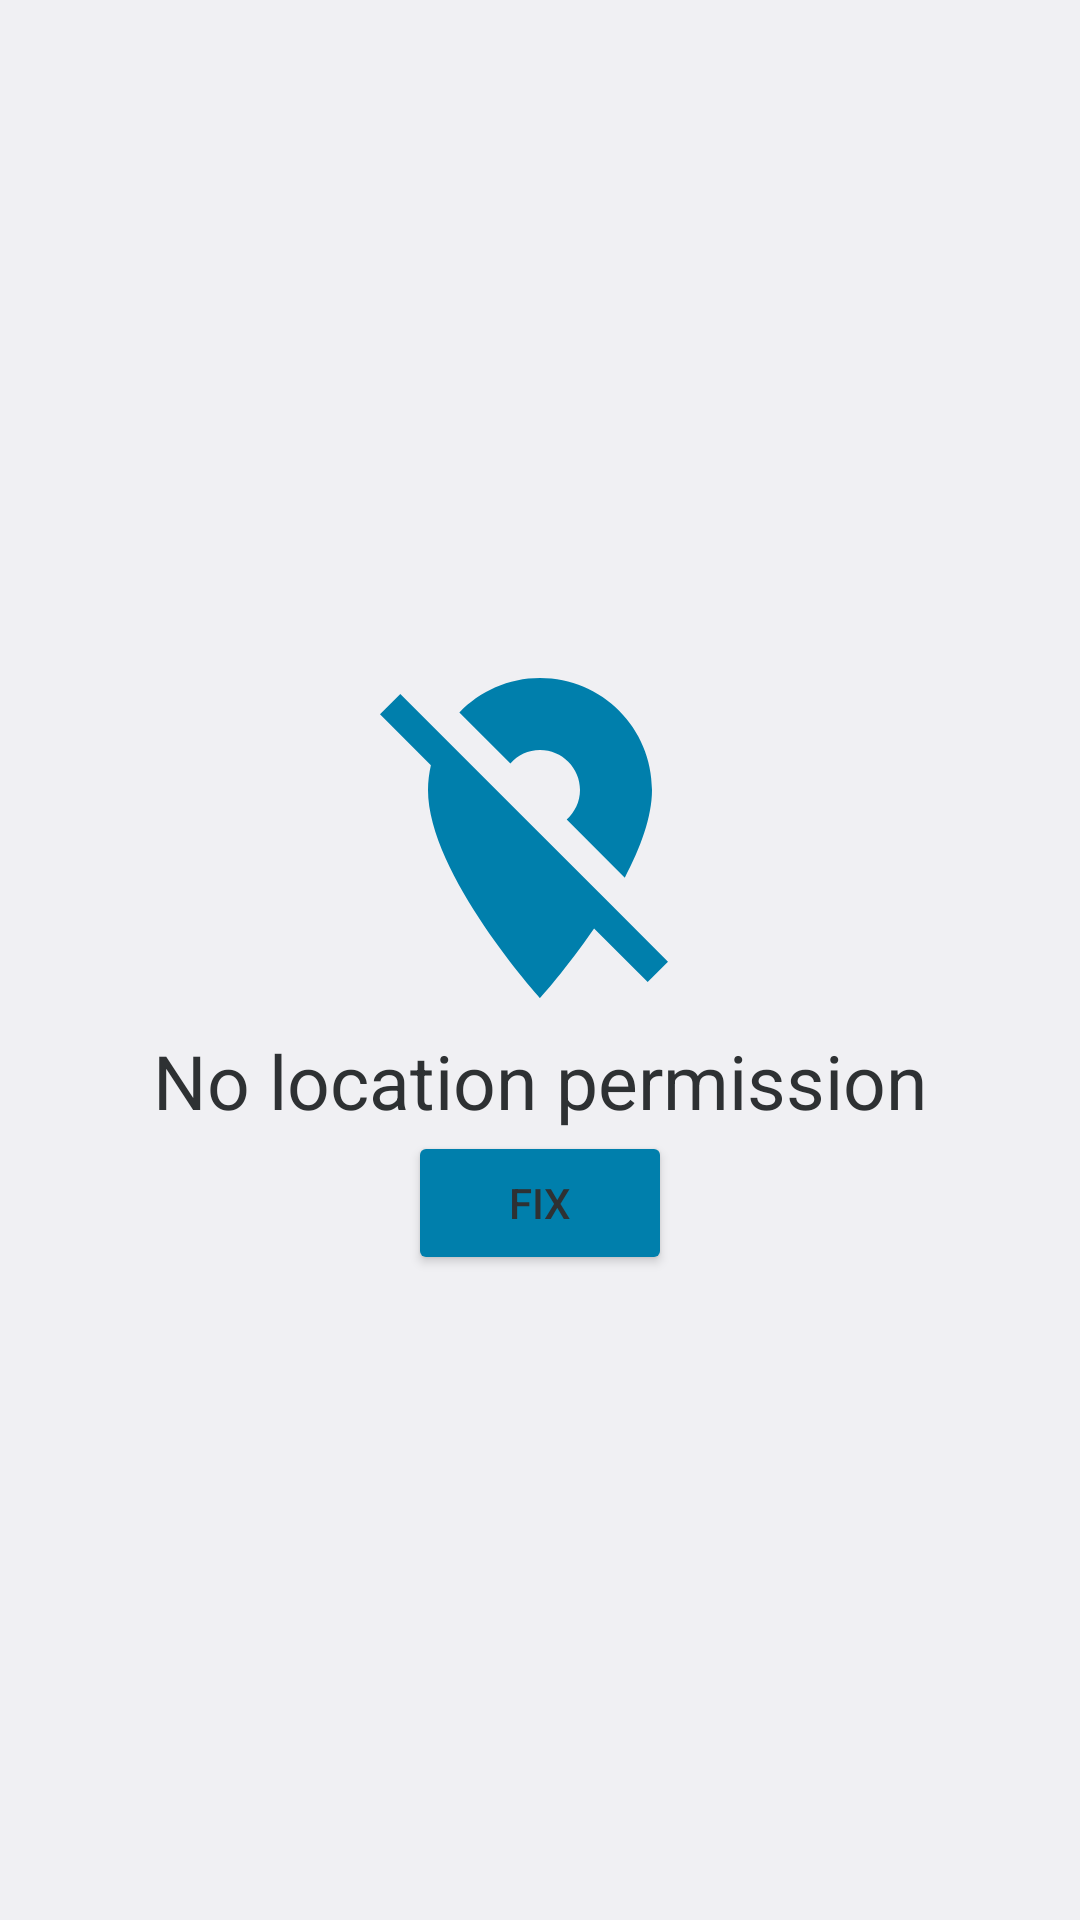

Where to tap for icons on this 1080x1920 app screen, as point (x, y):
location off: point (524, 838)
